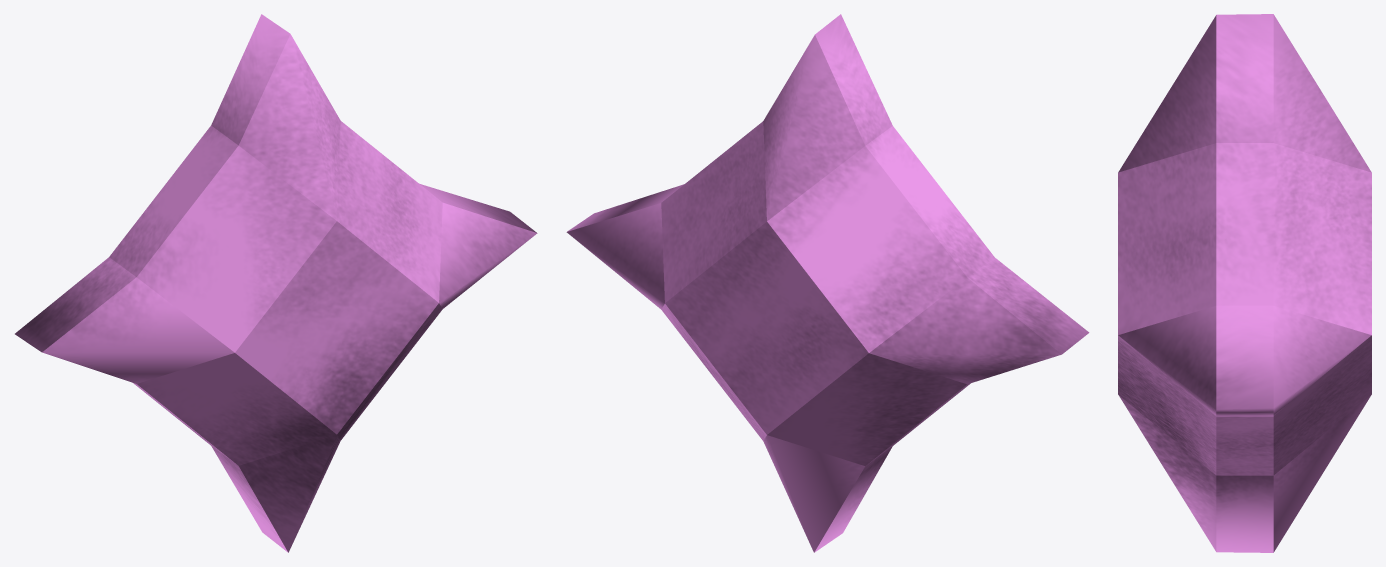
File: GON-NPC-2D-idle.fbx
The picture shows the model from 3 angles, left to right: view 1: azimuth 30°, elevation 25°; view 2: azimuth 150°, elevation 25°; view 3: azimuth 270°, elevation 25°; orthographic projection. The views are drawn at different scales.
Parts seen in each view (by area): view 1: pasted__pasted__pCube11; view 2: pasted__pasted__pCube11; view 3: pasted__pasted__pCube11.
Part boxes in pixels (x1,y1,x2,y2): pasted__pasted__pCube11: (15,14,537,552); pasted__pasted__pCube11: (566,14,1089,552); pasted__pasted__pCube11: (1118,14,1371,552).
Bounding box in the file's own units: 4.13 × 4.13 × 1.76.
Materials: 1 (1 with a texture image).
